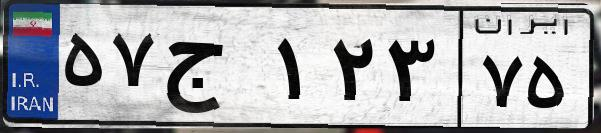1: (270, 28, 330, 110)
2: (330, 28, 385, 110)
3: (385, 28, 445, 110)
5: (57, 26, 110, 100), (525, 38, 570, 115)
7: (475, 38, 525, 113), (110, 28, 158, 98)
ج: (158, 20, 270, 120)
